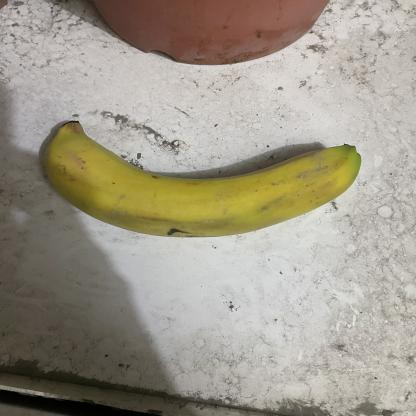banana: (37, 116, 364, 242)
